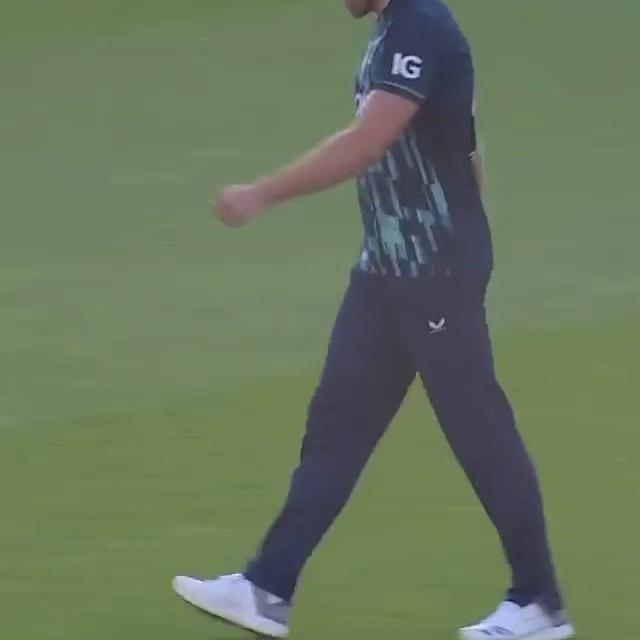person: (171, 0, 590, 640)
